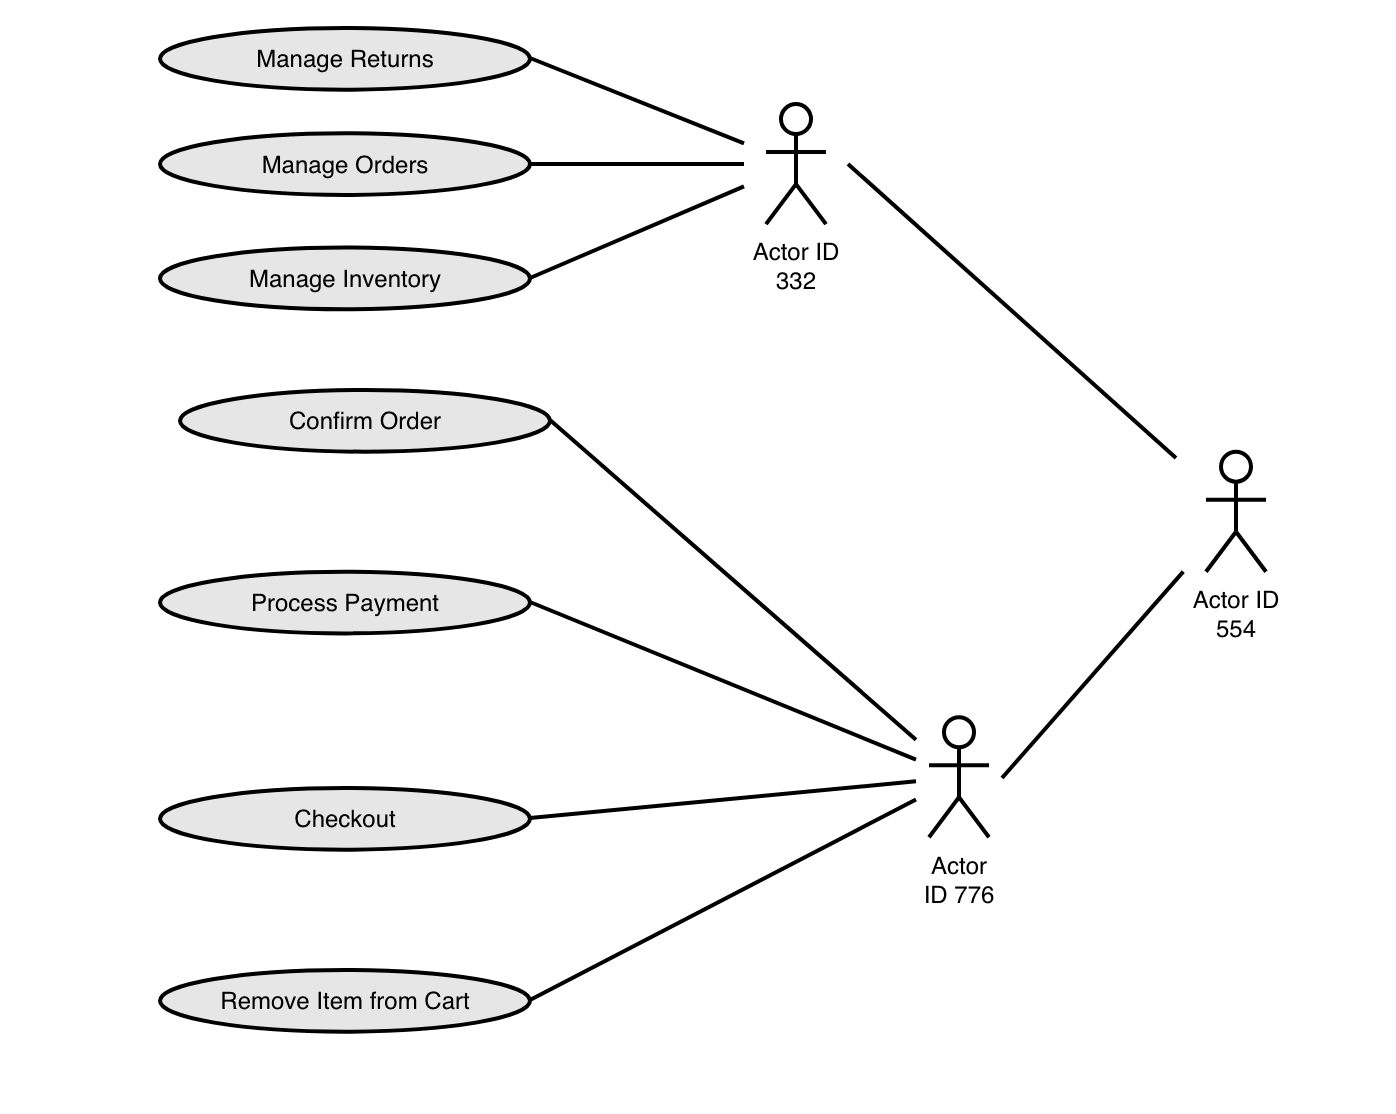actor: (1200, 448, 1274, 576), (766, 94, 834, 233), (925, 713, 995, 840)
association: (550, 415, 919, 741), (845, 158, 1179, 457), (533, 793, 921, 1004), (532, 598, 915, 760), (997, 566, 1188, 780), (531, 176, 745, 286), (530, 774, 916, 826), (533, 58, 749, 146), (535, 150, 742, 180)
text: (216, 986, 477, 1015), (241, 261, 452, 296), (737, 236, 849, 299), (281, 401, 451, 440), (257, 150, 438, 185), (252, 44, 450, 74), (247, 590, 450, 617), (917, 853, 999, 913), (1193, 587, 1282, 641), (289, 803, 402, 834)
use_case: (155, 780, 532, 855), (153, 23, 534, 95), (155, 242, 533, 315), (157, 127, 533, 199), (155, 965, 531, 1037), (156, 567, 533, 637), (176, 386, 552, 454)
